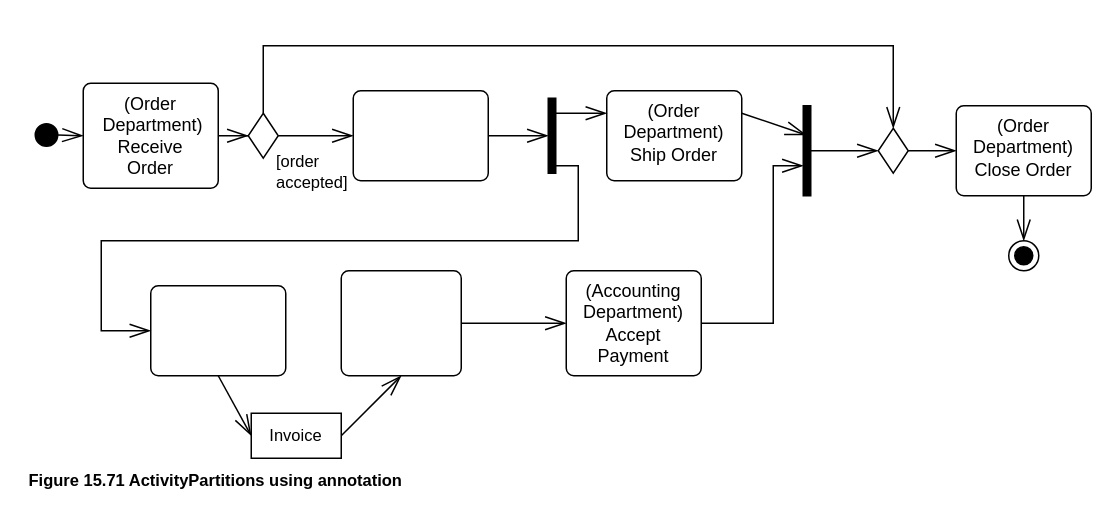
Some shapes in this 1118 by 530 pixel diagram are drawn without their labels. Each missing label, with the centre of its shape:
(Accounting Department) Send Invoice: point 217,330
(Order Department) Fill Order: point 420,135
«external» (Customer) Make Payment: point 400,322
